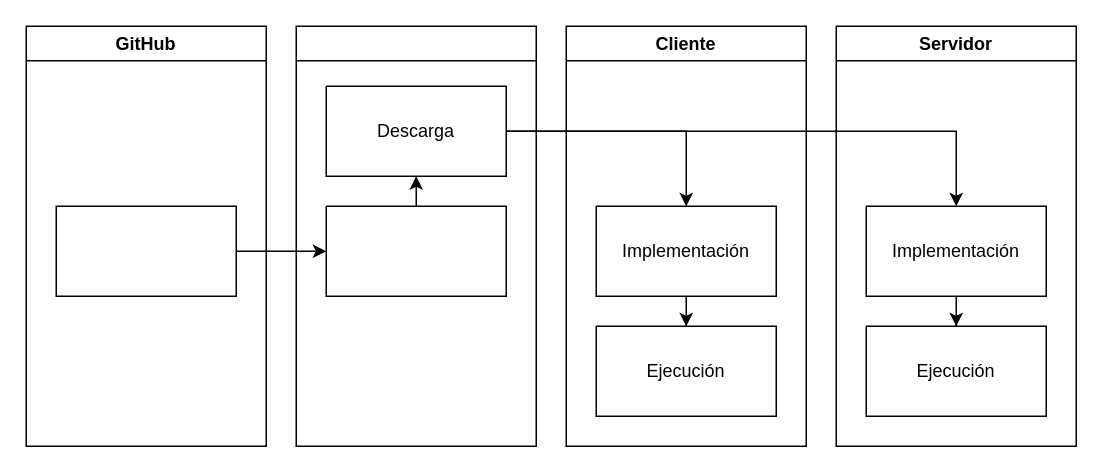
Image size: 1103x473. Some labels were removed from this diagram. Each missing label, with the box of its shape:
CurseForge / Modrinth: (295, 25, 536, 446)
Distribución: (325, 205, 506, 296)
Repositorio: (55, 205, 236, 296)
